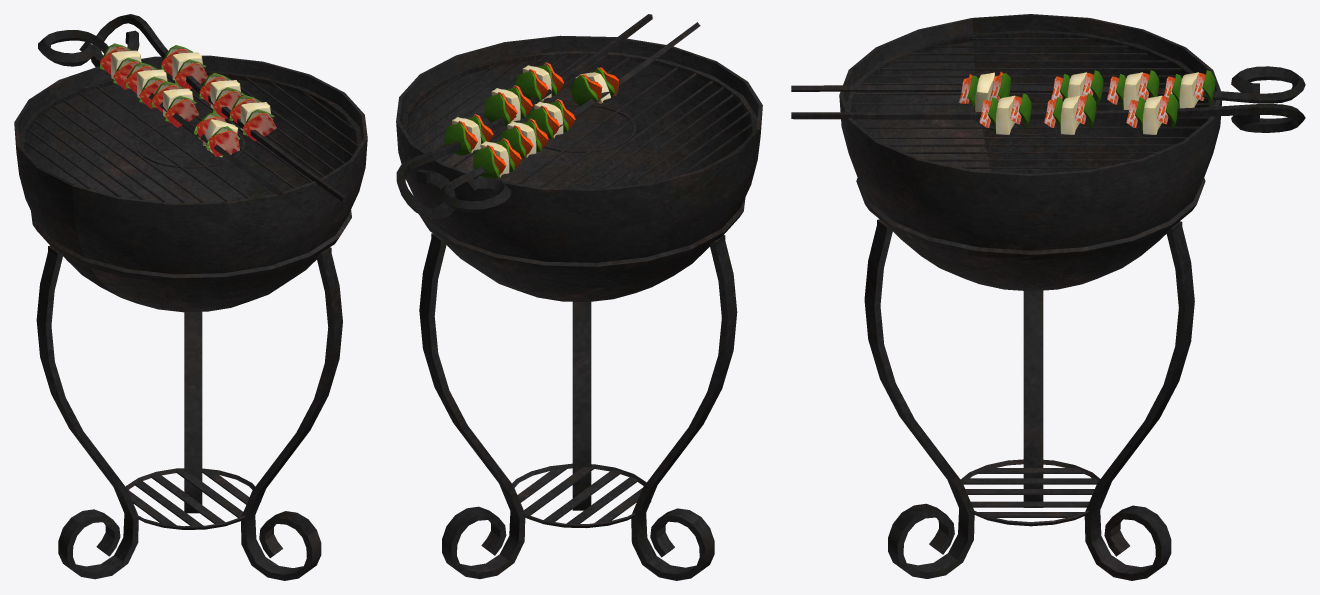
File: Barbecue+grill+3D+model.fbx
The picture shows the model from 3 angles, left to right: view 1: azimuth 30°, elevation 25°; view 2: azimuth 150°, elevation 25°; view 3: azimuth 270°, elevation 25°; orthographic projection. The views are drawn at different scales.
Visible parts, largest first — view 1: pCube24, pCube25, pCube22, polySurface8, polySurface12, polySurface10, polySurface9, polySurface11, polySurface6, polySurface7; view 2: pCube24, pCube25, pCube22, polySurface6, polySurface11, polySurface10, polySurface9, polySurface12, polySurface7, polySurface8; view 3: pCube24, pCube25, pCube22, polySurface12, polySurface11, polySurface10, polySurface6, polySurface7, polySurface9, polySurface8.
Boxes of the visible parts, <box> form: pCube24: <box>14,55,367,580</box>; pCube25: <box>91,14,346,201</box>; pCube22: <box>38,30,301,210</box>; polySurface8: <box>151,81,198,127</box>; polySurface12: <box>229,95,276,141</box>; polySurface10: <box>161,45,207,89</box>; polySurface9: <box>193,112,240,157</box>; polySurface11: <box>199,73,244,119</box>; polySurface6: <box>100,43,141,89</box>; polySurface7: <box>126,62,167,108</box>; pCube24: <box>396,35,762,580</box>; pCube25: <box>396,14,652,219</box>; pCube22: <box>438,22,700,212</box>; polySurface6: <box>473,138,521,178</box>; polySurface11: <box>484,85,532,126</box>; polySurface10: <box>445,114,493,155</box>; polySurface9: <box>571,67,618,106</box>; polySurface12: <box>515,62,563,102</box>; polySurface7: <box>500,118,548,158</box>; polySurface8: <box>527,99,575,138</box>; pCube24: <box>839,14,1222,580</box>; pCube25: <box>791,104,1305,132</box>; pCube22: <box>791,66,1305,103</box>; polySurface12: <box>979,93,1031,134</box>; polySurface11: <box>1044,93,1096,134</box>; polySurface10: <box>1126,93,1178,134</box>; polySurface6: <box>1164,70,1215,108</box>; polySurface7: <box>1107,70,1159,109</box>; polySurface9: <box>958,71,1010,111</box>; polySurface8: <box>1051,70,1103,105</box>.
Size of the model in its own units: 1.4 by 1.95 by 1.88.
Materials: 1 (1 with a texture image).
